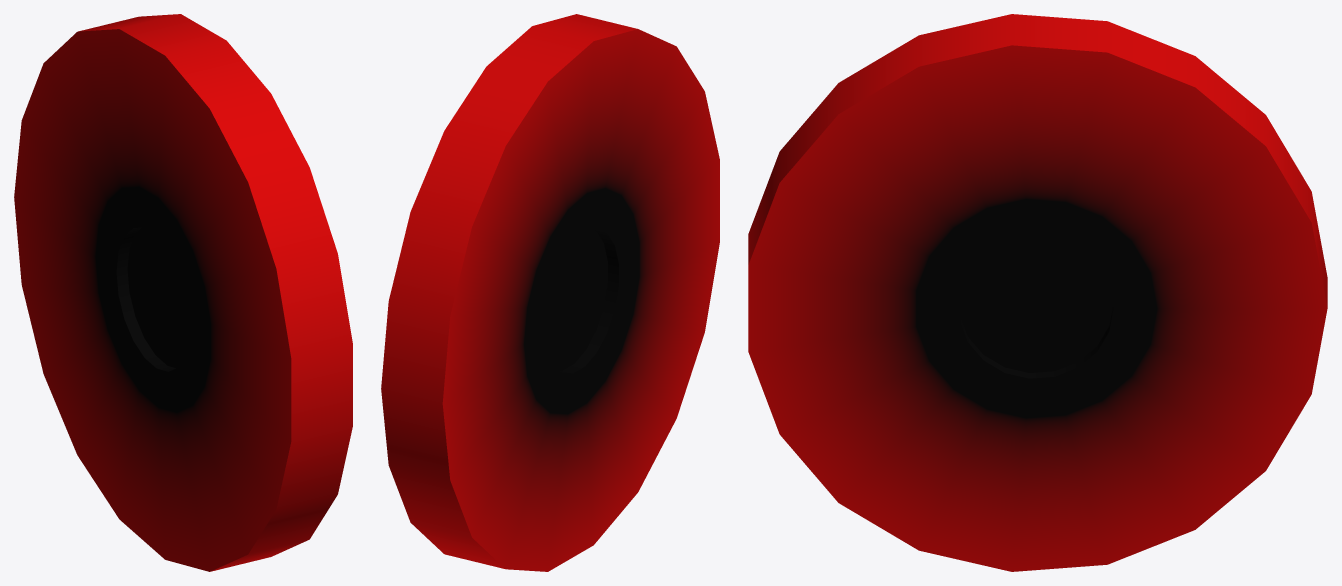
Rendered from Llanta.fbx.
The picture shows the model from 3 angles, left to right: view 1: azimuth 30°, elevation 25°; view 2: azimuth 150°, elevation 25°; view 3: azimuth 270°, elevation 25°; orthographic projection. The views are drawn at different scales.
Parts seen in each view (by area): view 1: Cylinder; view 2: Cylinder; view 3: Cylinder.
Part boxes in pixels (bbox=[...]): Cylinder: bbox=[14, 14, 352, 571]; Cylinder: bbox=[381, 14, 719, 571]; Cylinder: bbox=[748, 14, 1327, 571].
Size of the model in its own units: 27 by 211 by 211.
